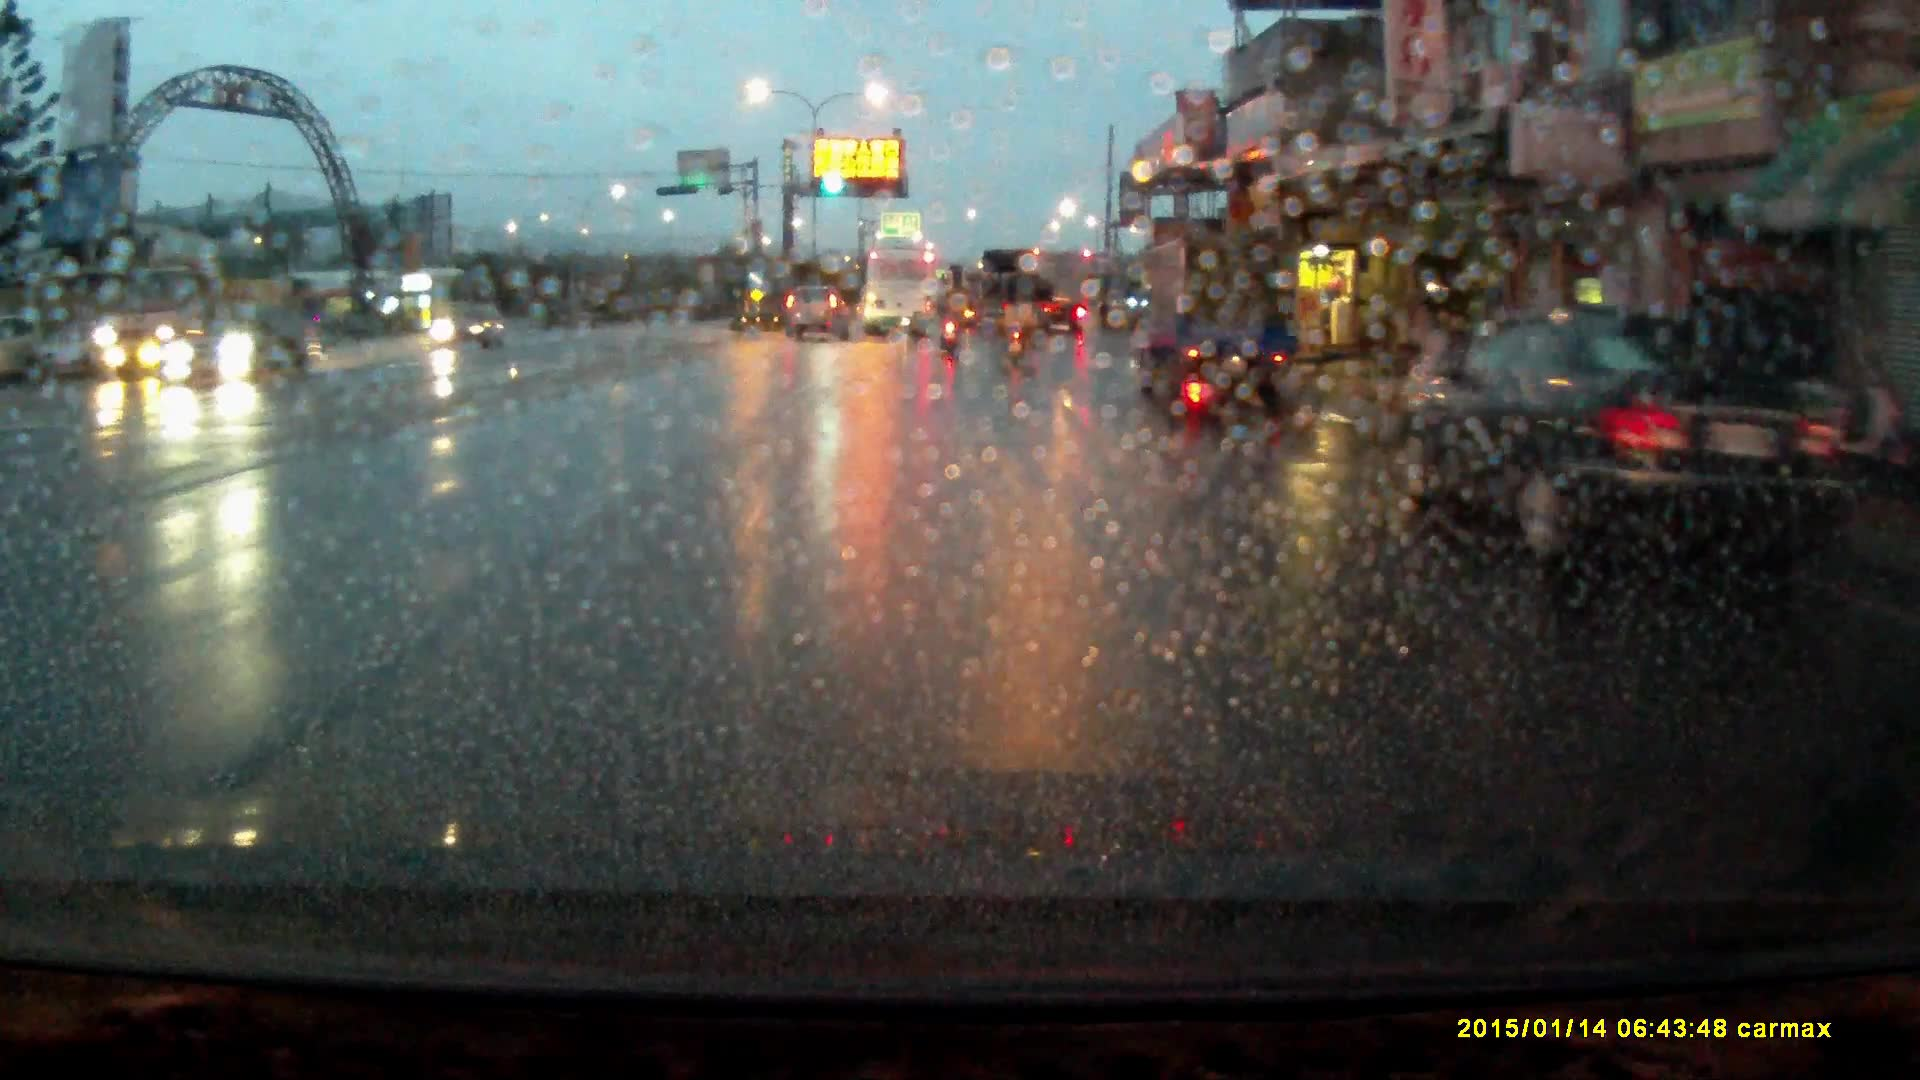rider: (999, 276, 1037, 359), (934, 281, 968, 350)
vehicle: (1394, 301, 1859, 565), (1134, 228, 1301, 390), (92, 254, 311, 375), (167, 312, 315, 392), (865, 245, 935, 338), (986, 252, 1052, 339), (425, 301, 508, 352), (785, 273, 851, 334), (1, 310, 48, 390)
